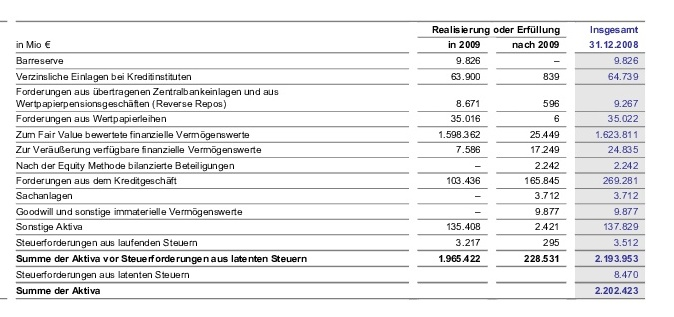table: (0, 0, 674, 317)
